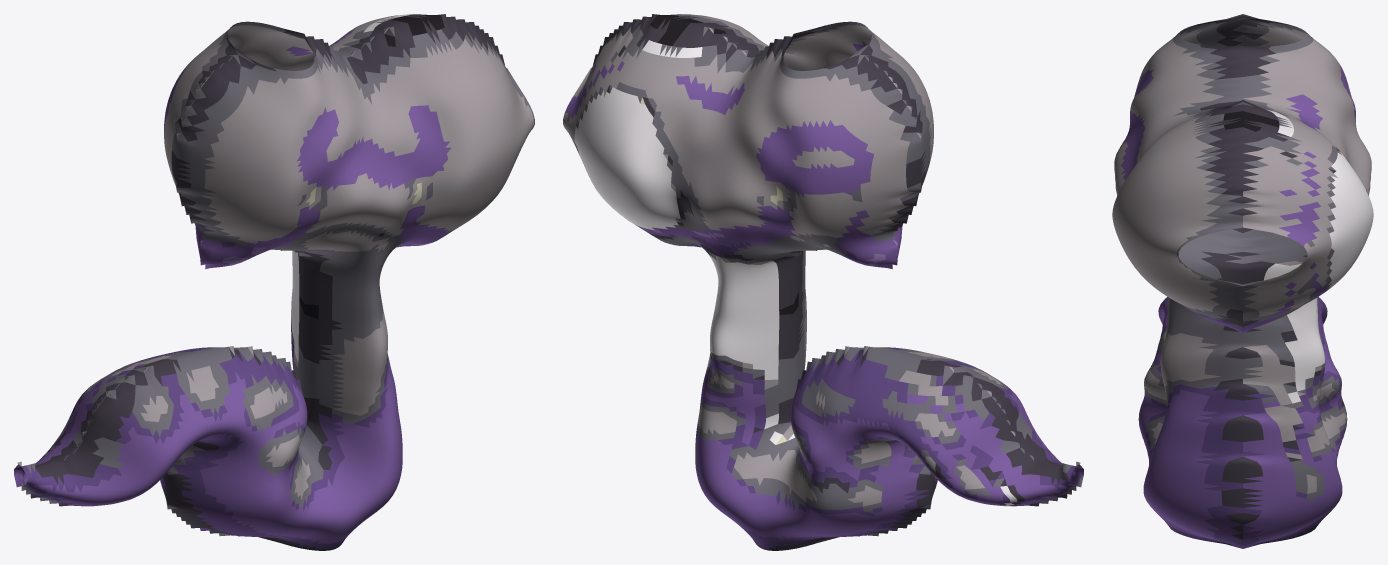
The model's file is salmua.glb.
3 renders of one model, left to right at view 1: azimuth 30°, elevation 25°; view 2: azimuth 150°, elevation 25°; view 3: azimuth 270°, elevation 25°, orthographic.
Parts seen in each view (by area): view 1: salmua; view 2: salmua; view 3: salmua.
Boxes of the visible parts, bbox=[...] form: salmua: bbox=[14, 14, 534, 550]; salmua: bbox=[563, 14, 1083, 550]; salmua: bbox=[1112, 14, 1373, 548].
Bounding box in the file's own units: 695 × 666 × 322.
